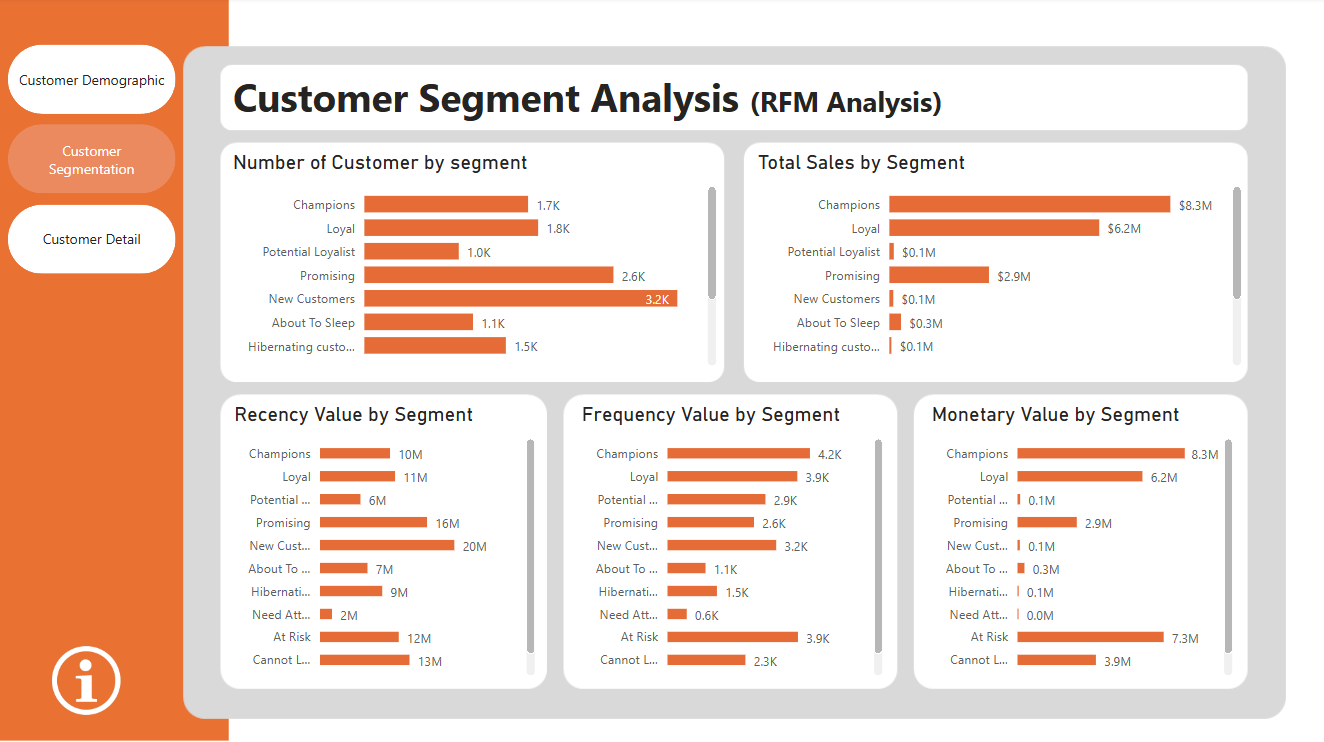

The dashboard page shown, as its layout file describes it:
{"tool":"powerbi","page":{"name":"Customer Segmentation","canvas":[1280,720],"ordinal":1},"visuals":[{"type":"barChart","title":"Number of Customer by segment","fields":{"Y":["Count(FactInternetSales.CustomerKey)"],"Category":["Segments Table.Segment"]},"box":[220.7,148.3,476.4,212.3],"z":0},{"type":"barChart","title":"Total Sales by Segment","fields":{"Y":["Sum(FactInternetSales.SalesAmount)"],"Category":["Segments Table.Segment"]},"box":[727.2,148.3,476.4,212.3],"z":1000},{"type":"barChart","title":"Recency Value by Segment","fields":{"Y":["Sum(RFM Table.Recency Value)"],"Category":["Segments Table.Segment"]},"box":[221.9,392,300.3,267.7],"z":2000},{"type":"barChart","title":"Frequency Value by Segment","fields":{"Y":["Sum(RFM Table.Frequency Value)"],"Category":["Segments Table.Segment"]},"box":[557.2,392,300.3,267.7],"z":3000},{"type":"barChart","title":"Monetary Value by Segment","fields":{"Category":["Segments Table.Segment"],"Y":["Sum(RFM Table.Monetary Value)"]},"box":[894.9,392,300.3,267.7],"z":4000},{"type":"textbox","box":[220.7,66.3,803.2,62.7],"z":4001},{"type":"pageNavigator","box":[8.6,45.7,162.9,222.9],"z":4002},{"type":"image","box":[34.3,614.3,100,91.4],"z":4003}]}

Visuals, with their boxes in screenshot pixels (x1, y1, x2, y2), scaled from the page's 1280x720 canvas onto the 1324x742 screenshot:
"Number of Customer by segment" barChart: crop(228, 153, 721, 372)
"Total Sales by Segment" barChart: crop(752, 153, 1245, 372)
"Recency Value by Segment" barChart: crop(230, 404, 540, 680)
"Frequency Value by Segment" barChart: crop(576, 404, 887, 680)
"Monetary Value by Segment" barChart: crop(926, 404, 1236, 680)
textbox: crop(228, 68, 1059, 133)
pageNavigator: crop(9, 47, 177, 277)
image: crop(35, 633, 139, 727)
